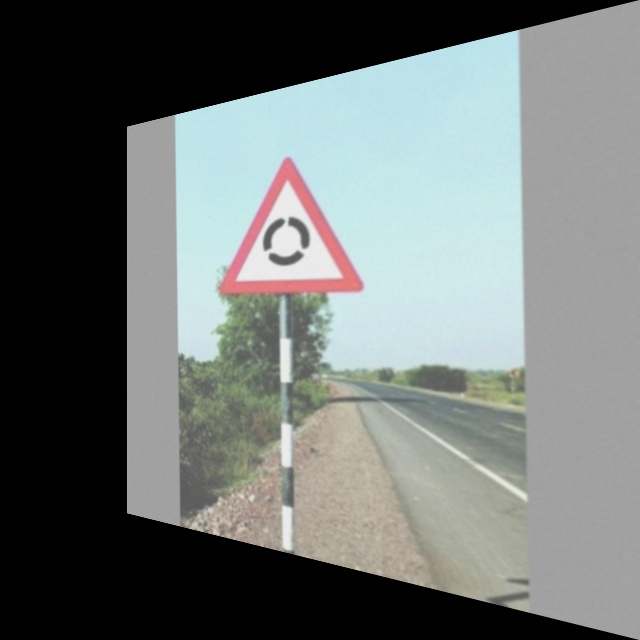Round_About: (213, 138, 373, 300)
